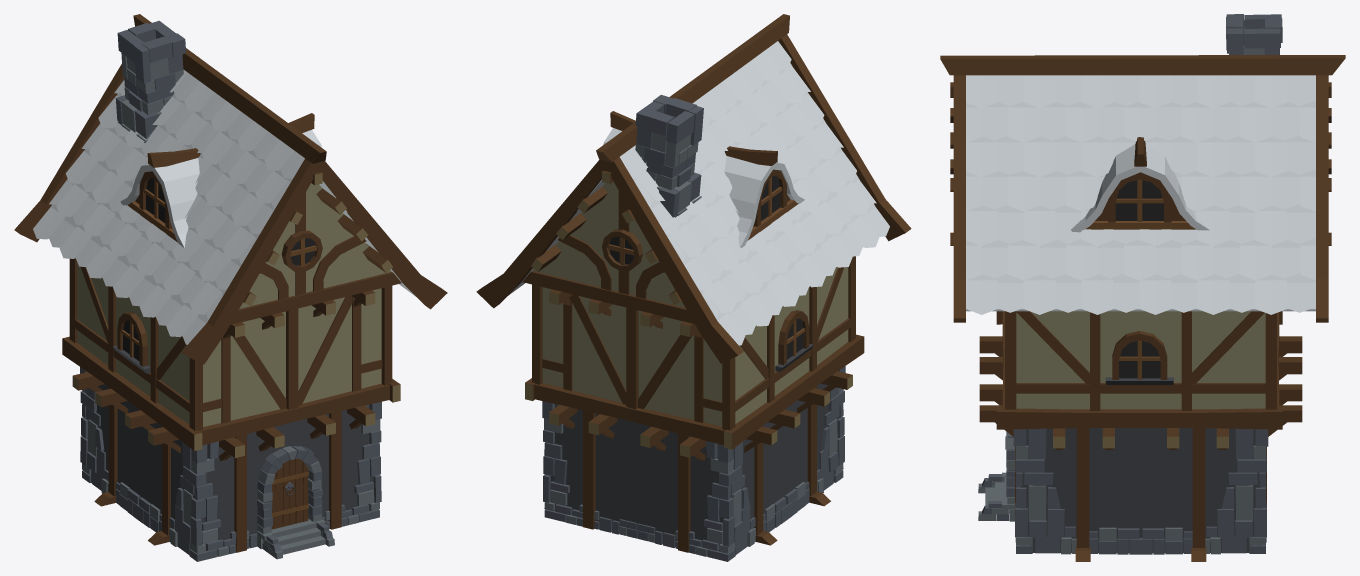
The model's file is house-snow.glb.
3 renders of one model, left to right at view 1: azimuth 30°, elevation 25°; view 2: azimuth 150°, elevation 25°; view 3: azimuth 270°, elevation 25°, orthographic. The views are drawn at different scales.
Parts seen in each view (by area): view 1: House_1; view 2: House_1; view 3: House_1.
Part boxes in pixels (bbox=[...]): House_1: bbox=[14, 14, 447, 561]; House_1: bbox=[476, 14, 911, 561]; House_1: bbox=[940, 14, 1345, 561].
Size of the model in its own units: 2.14 by 3.39 by 2.66.
